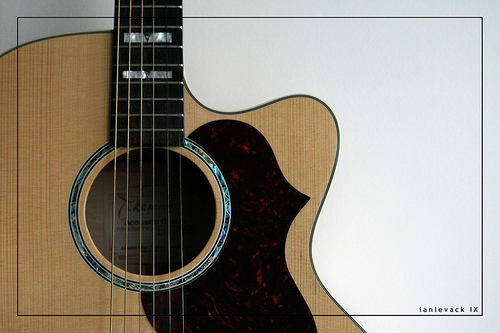guitar: (1, 1, 371, 333)
